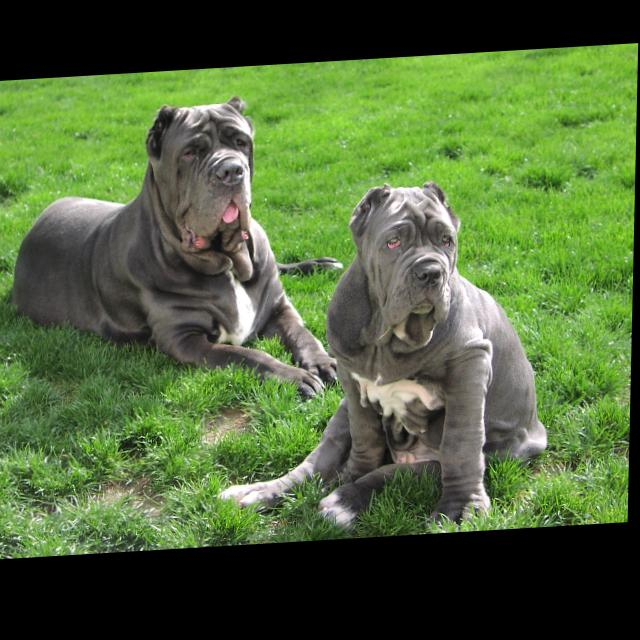mastino_napoletano: (220, 179, 557, 548), (11, 93, 350, 420)
